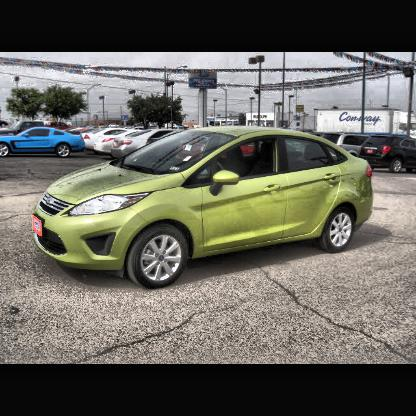Ford Fiesta Sedan 2012: (33, 127, 376, 291)
